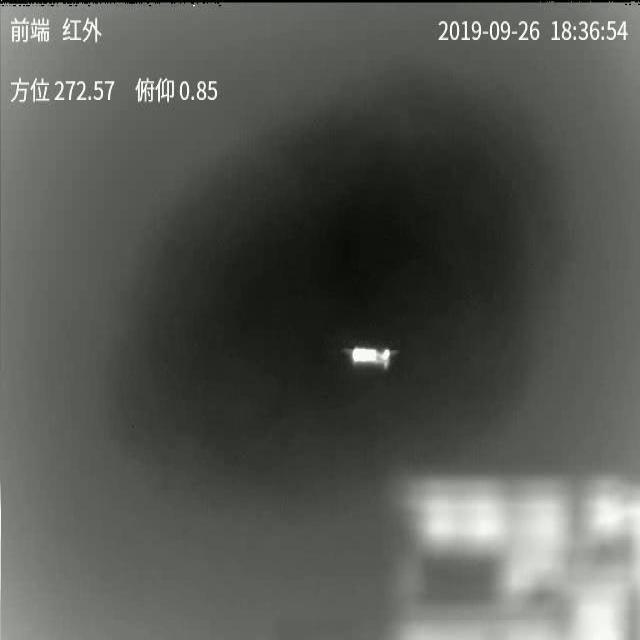drone: (341, 347, 399, 369)
